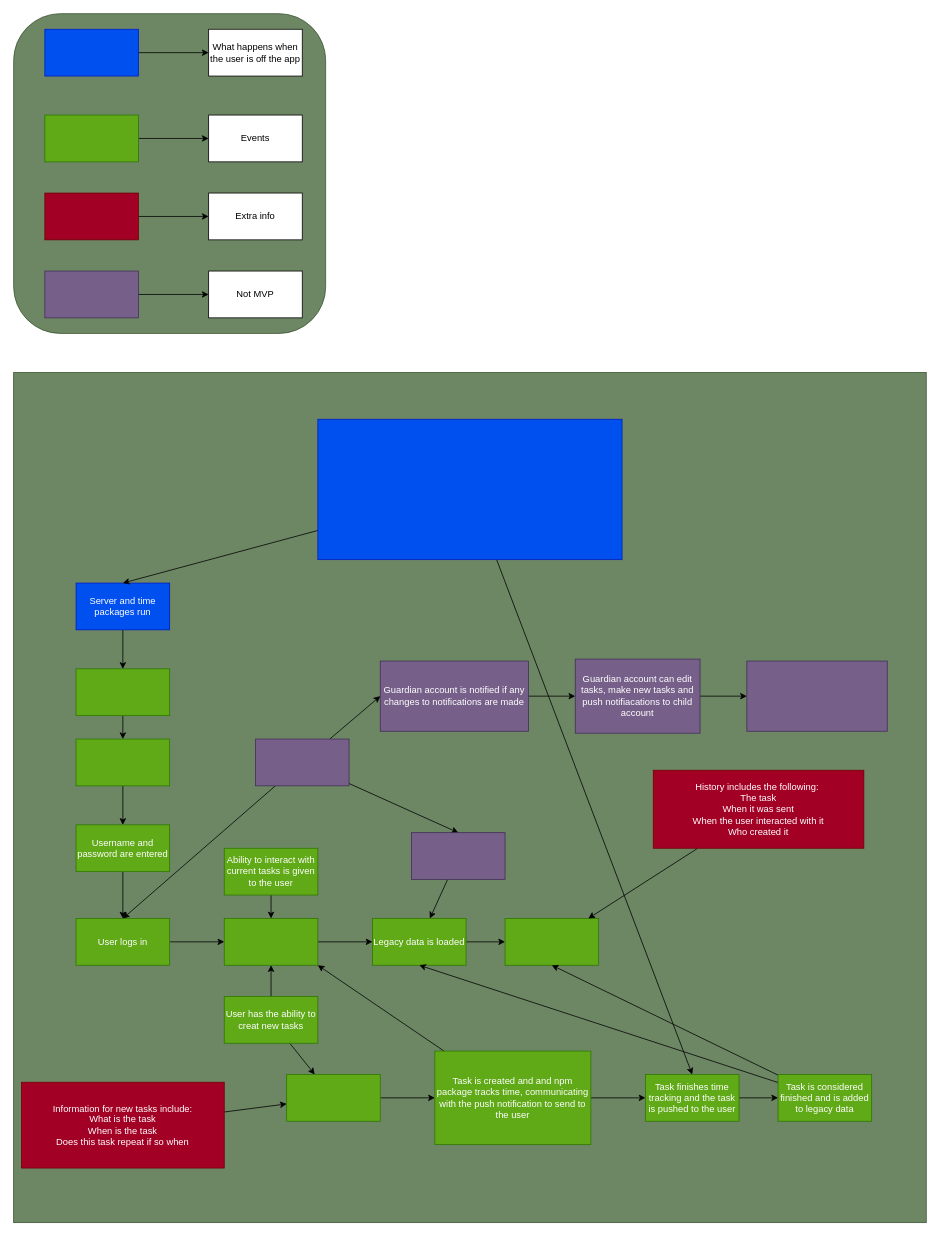
The diagram is 940 pixels wide and 1236 high, and some of its shapes have lost their labels. The shapes that lost their labels are listed below. From the top down, each one's box as (x1, y1, x2, y2) in pixels, then its label:
(317, 418, 622, 560): Tasks are sent to user
(75, 668, 170, 716): User starts application
(746, 660, 887, 731): Guardian account can change, lock and edit all information on the child account
(75, 738, 170, 786): Log in screen loads
(255, 738, 349, 786): If user is guardian
(411, 832, 505, 879): Guardian can view legacy data
(223, 918, 318, 965): Data for current tasks is shown
(504, 918, 599, 965): User can view their history
(286, 1074, 380, 1121): Info form is generated for new task creation
